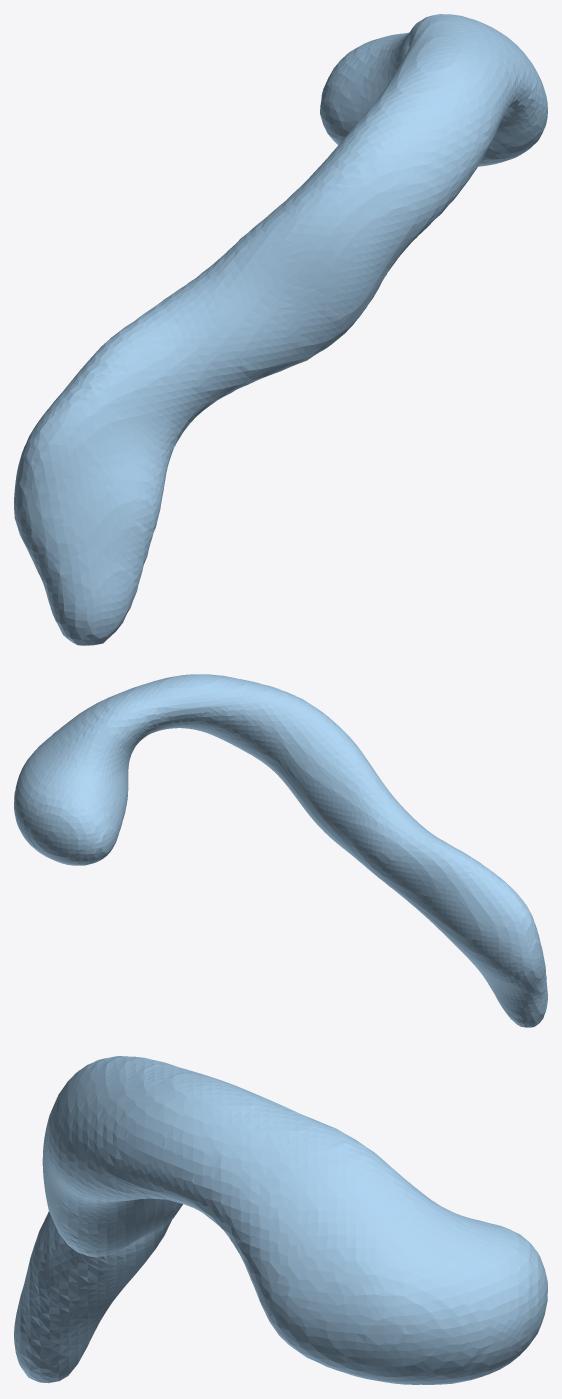
3 views of the same model, one above another, from view 1: azimuth 30°, elevation 25°; view 2: azimuth 150°, elevation 25°; view 3: azimuth 270°, elevation 25° (orthographic). The views are drawn at different scales.
Visible parts, largest first — view 1: world; view 2: world; view 3: world.
Boxes of the visible parts, x1,y1,x2,y2 form: world: (14, 14, 547, 645); world: (14, 674, 547, 1027); world: (14, 1056, 547, 1384).
Size of the model in its own units: 0.7148 by 0.4879 by 0.4355.
